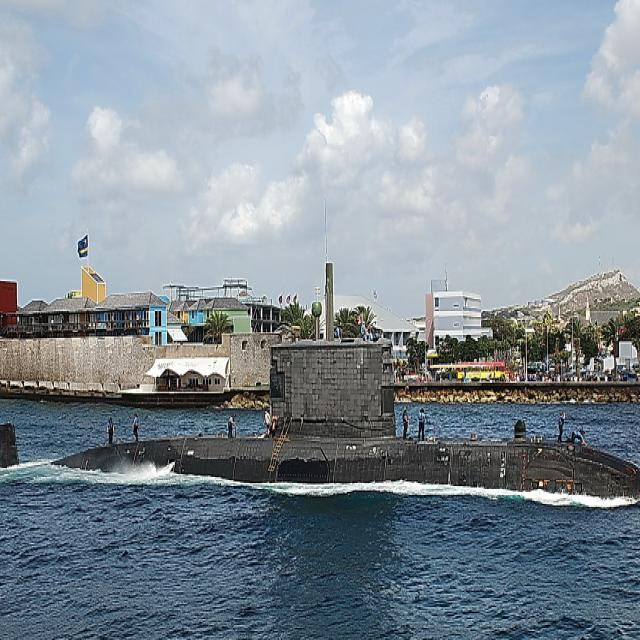submarine: (1, 263, 640, 506)
